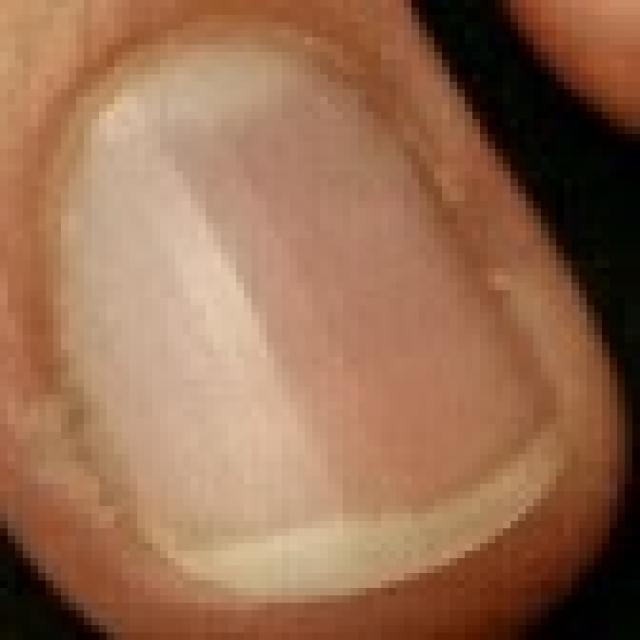Nail: (47, 14, 580, 609)
